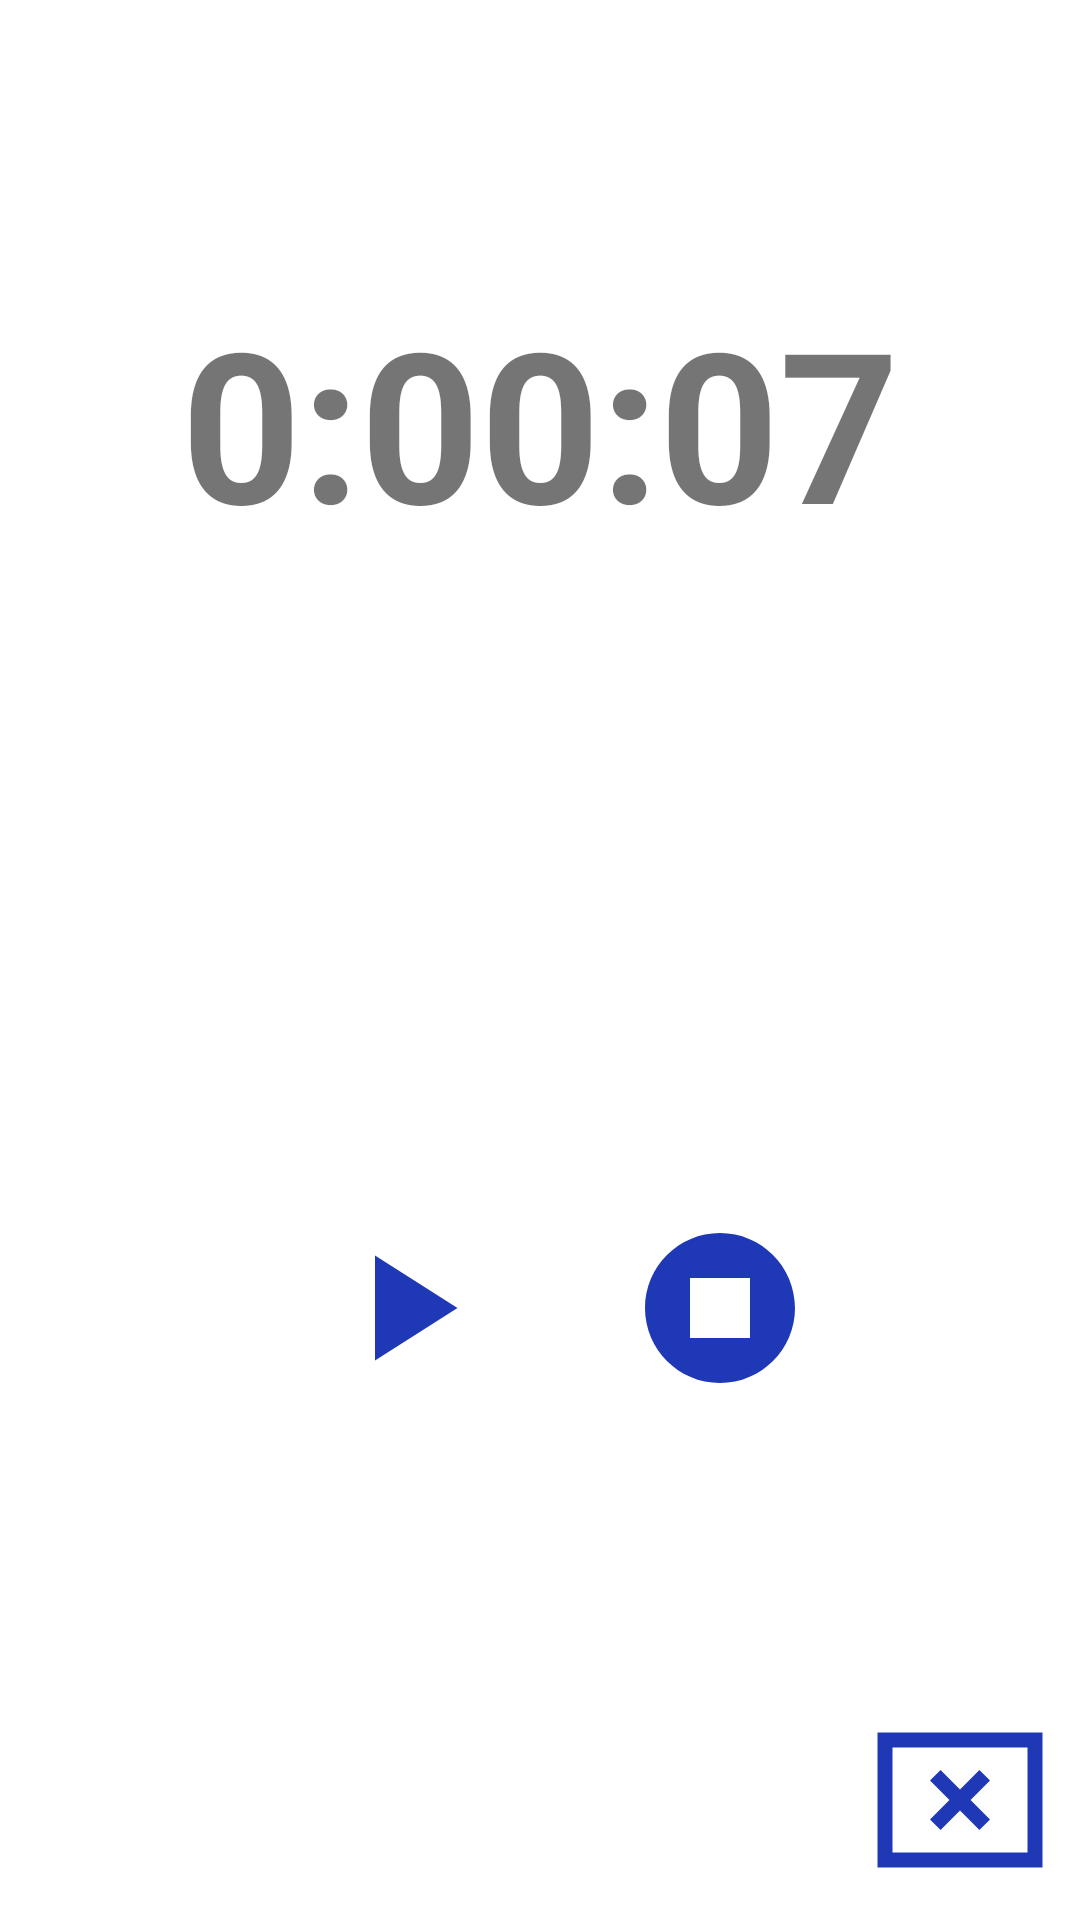

Named icons in this screenshot (1080px×1920px) and their centers, (x,y):
play arrow: (416,1308)
stop circle: (720,1308)
